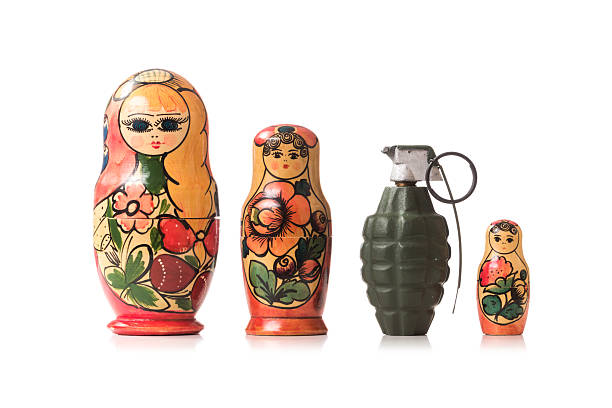e1: (361, 141, 476, 342)
